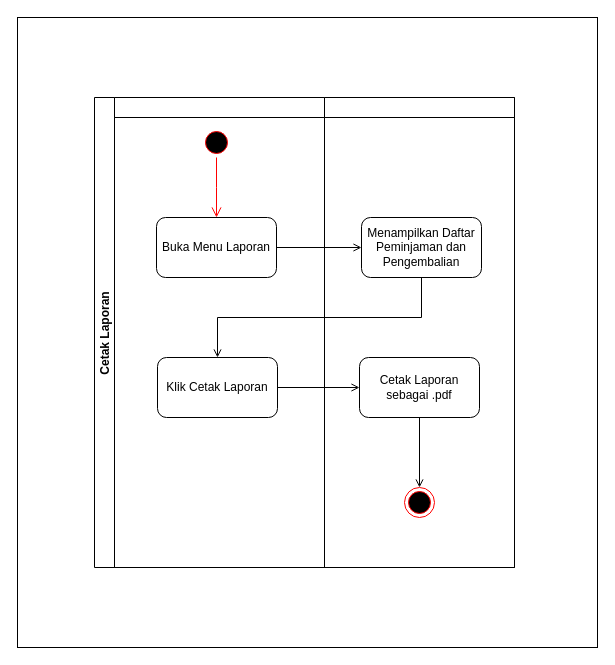
This 615x665 diagram has some shape labels left out. Here are the shapes that lost their labels. From the top down, the box of each, then its label:
(114, 96, 324, 568): Petugas
(324, 96, 514, 568): Sistem
